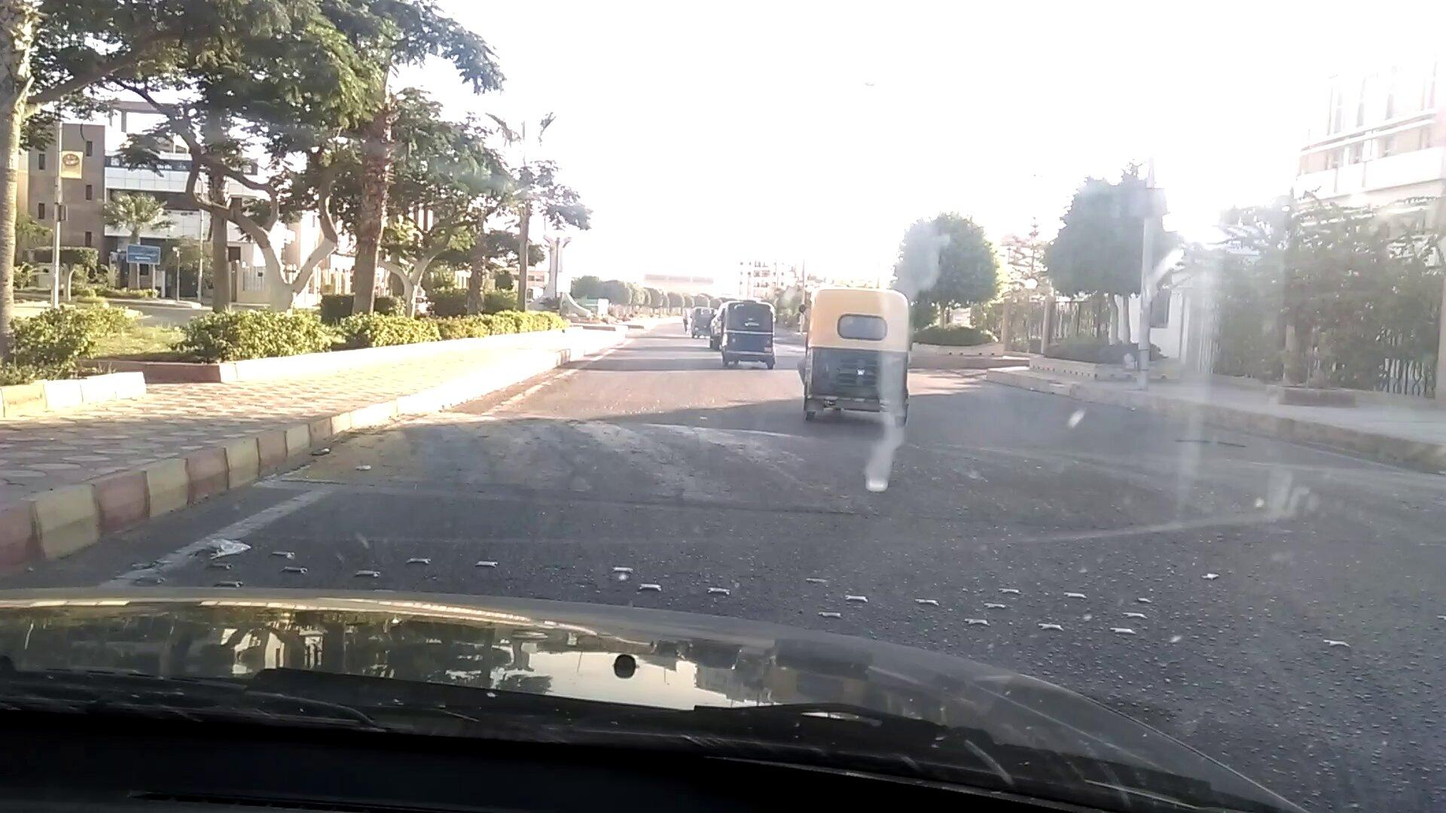Bump: (386, 427, 1446, 538)
